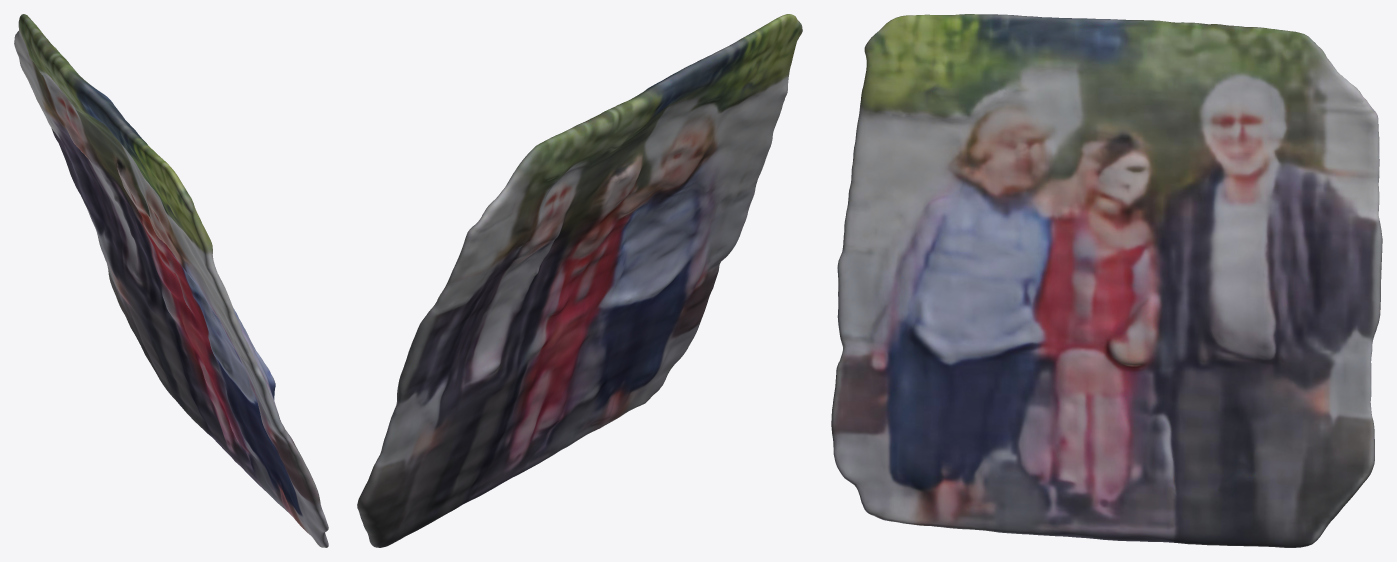
The model's file is 826a250f833d_a_photo_of_a_family.fbx.
3 renders of one model, left to right at view 1: azimuth 30°, elevation 25°; view 2: azimuth 150°, elevation 25°; view 3: azimuth 270°, elevation 25°, orthographic. The views are drawn at different scales.
Visible parts, largest first — view 1: high_poly; view 2: high_poly; view 3: high_poly.
Boxes of the visible parts, bbox=[...] form: high_poly: bbox=[14, 14, 328, 547]; high_poly: bbox=[357, 14, 802, 547]; high_poly: bbox=[831, 14, 1382, 547].
Size of the model in its own units: 43.88 by 88.32 by 100.
